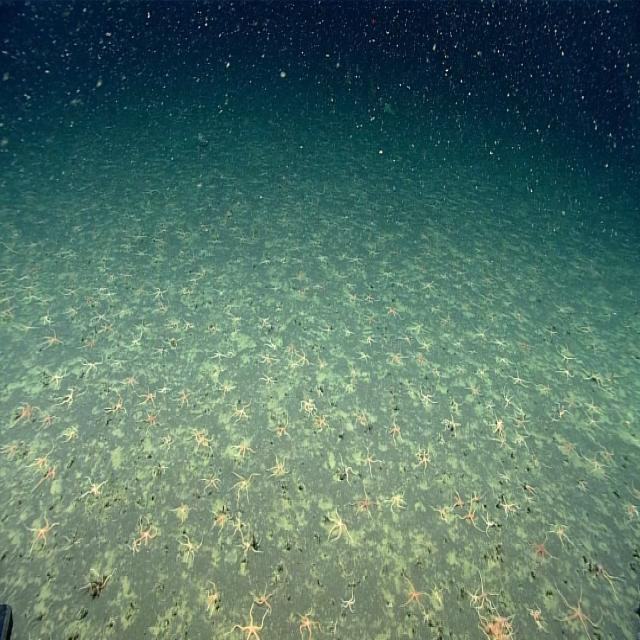brittle-stars: (555, 584, 604, 640), (523, 528, 558, 570), (230, 603, 268, 640), (399, 573, 430, 616), (323, 504, 354, 546), (596, 563, 626, 600), (455, 498, 484, 536), (78, 569, 117, 595), (28, 459, 55, 496), (292, 606, 323, 638), (32, 515, 59, 551), (581, 449, 611, 481), (10, 396, 41, 426), (178, 530, 204, 564), (247, 582, 274, 614), (230, 470, 258, 500), (473, 570, 494, 609), (79, 472, 107, 500), (354, 448, 382, 475), (133, 518, 158, 548), (557, 522, 578, 556), (264, 454, 290, 481), (238, 536, 264, 560), (205, 583, 221, 621), (227, 401, 252, 425), (507, 366, 532, 390), (354, 492, 378, 516), (269, 415, 290, 442), (525, 607, 548, 631), (478, 507, 499, 533), (57, 387, 77, 414), (230, 516, 249, 544), (583, 368, 605, 392), (430, 498, 450, 524), (46, 365, 66, 390), (211, 512, 233, 534), (583, 410, 605, 432), (104, 397, 128, 417), (512, 431, 532, 455), (383, 492, 408, 511), (414, 447, 432, 473), (496, 495, 516, 518), (137, 409, 162, 427), (560, 436, 578, 461), (173, 389, 194, 410), (336, 592, 356, 614), (440, 415, 460, 437), (59, 424, 79, 445), (202, 471, 222, 492), (234, 438, 254, 459), (510, 416, 531, 436), (555, 344, 575, 365), (170, 501, 190, 522), (78, 358, 104, 374), (192, 433, 215, 451), (549, 405, 572, 423), (28, 451, 52, 468), (78, 332, 98, 352), (297, 396, 318, 415), (314, 320, 338, 336), (0, 438, 19, 458), (464, 378, 482, 399), (312, 412, 329, 434), (490, 412, 504, 438), (418, 386, 437, 405), (388, 422, 403, 446), (498, 389, 516, 409), (557, 364, 575, 384), (137, 391, 158, 408), (40, 411, 58, 430), (95, 318, 114, 336), (383, 304, 403, 321), (463, 583, 479, 604), (386, 350, 405, 367), (416, 278, 436, 294), (126, 328, 142, 348), (42, 332, 63, 347), (407, 320, 428, 335), (292, 350, 308, 369), (120, 372, 138, 388), (627, 480, 640, 502), (187, 426, 203, 443), (416, 339, 434, 354), (514, 338, 533, 352), (258, 351, 276, 365), (625, 502, 639, 520), (583, 397, 601, 411), (258, 374, 278, 386), (356, 349, 372, 364), (473, 325, 488, 341), (564, 394, 578, 411), (128, 539, 141, 557), (483, 397, 496, 415), (524, 483, 540, 497), (454, 489, 464, 511), (256, 314, 271, 328), (353, 413, 366, 429), (218, 380, 230, 397), (159, 435, 173, 449), (537, 383, 553, 395), (492, 336, 506, 349), (342, 324, 354, 338), (157, 384, 171, 396), (210, 349, 226, 359), (499, 473, 511, 485), (366, 333, 376, 347), (415, 352, 425, 364)
